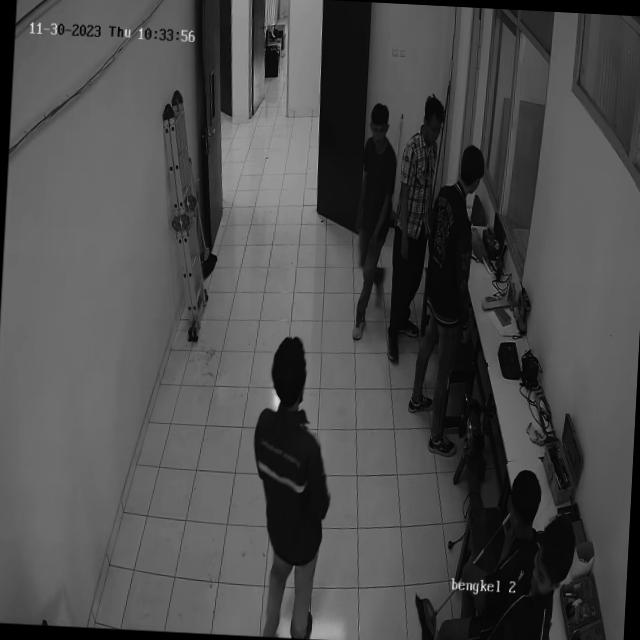person: (248, 329, 344, 640), (402, 144, 485, 458), (386, 90, 456, 343), (350, 104, 400, 342)
